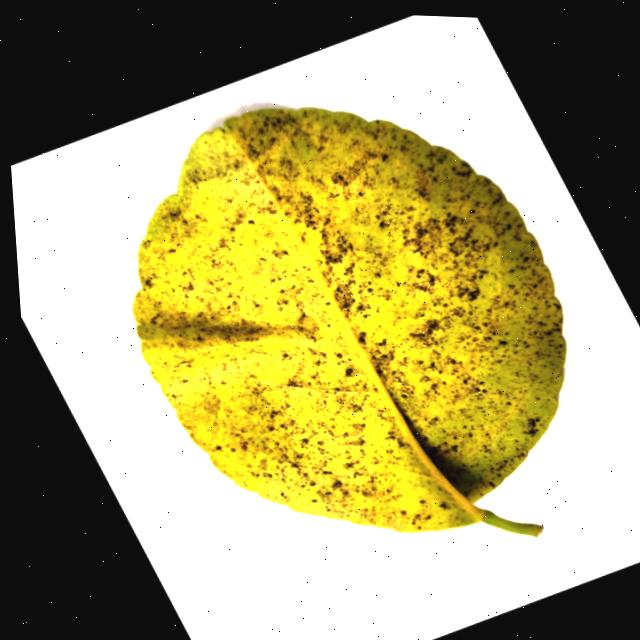melanose: (133, 107, 565, 533)
